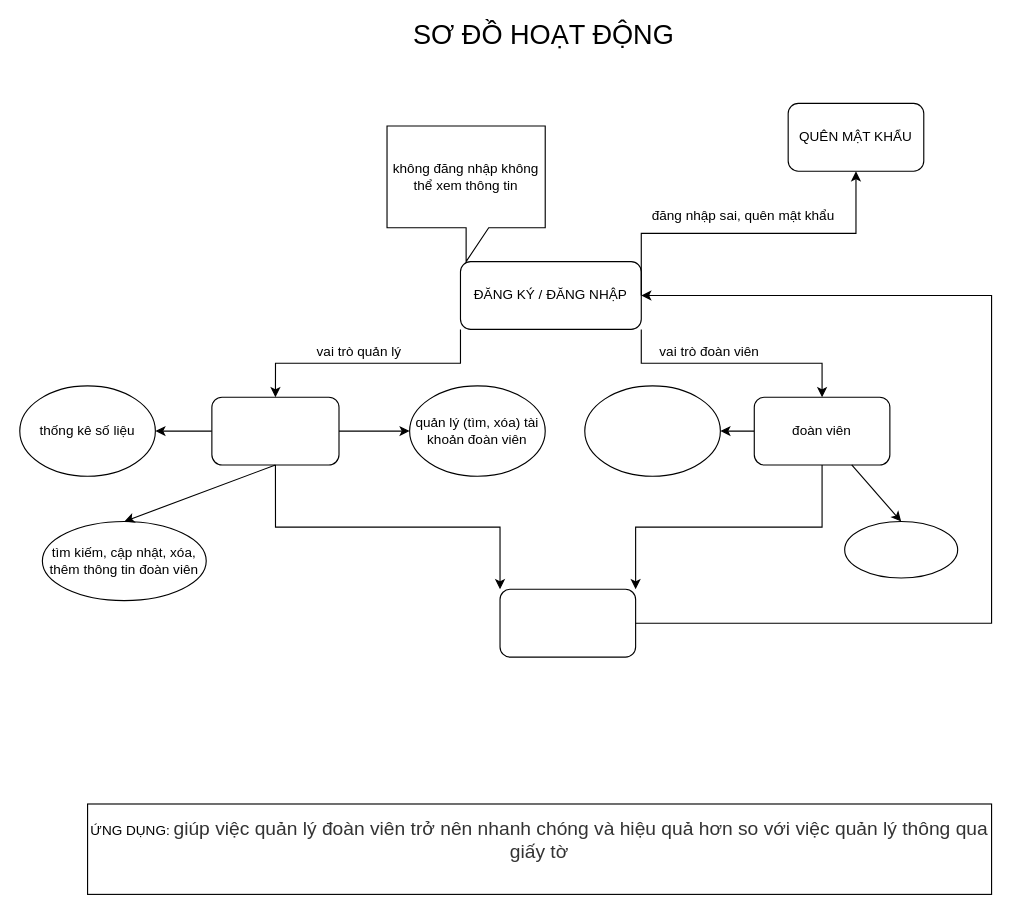
The diagram is 1020 pixels wide and 914 high, and some of its shapes have lost their labels. Each missing label, with the centre of its shape:
"chỉnh sửa thông tin cá nhân" belongs at [652,430].
"quản lý" belongs at [275,430].
"tìm kiếm thông tin" belongs at [901,549].
"ĐĂNG XUẤT" belongs at [567,622].
